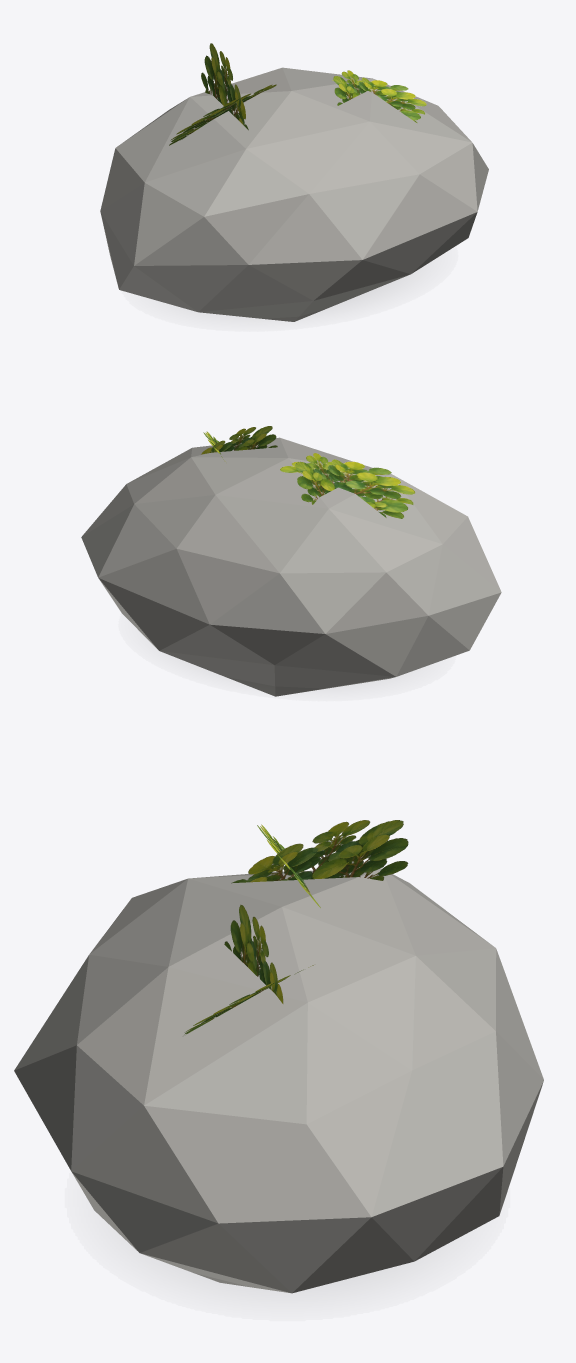
The model's file is moss-rock.glb.
3 views of the same model, one above another, from view 1: azimuth 30°, elevation 25°; view 2: azimuth 150°, elevation 25°; view 3: azimuth 270°, elevation 25° (orthographic). The views are drawn at different scales.
Visible parts, largest first — view 1: rock, leafcard.002, leafcard.003, leafcard, leafcard.001; view 2: rock, leafcard.001, leafcard.002, leafcard; view 3: rock, leafcard.002, leafcard.
Part boxes in pixels (box(x1,y1,x2,y2)): rock: box(100, 67, 488, 321); leafcard.002: box(201, 43, 248, 130); leafcard.003: box(332, 80, 426, 123); leafcard: box(333, 70, 369, 105); leafcard.001: box(169, 84, 276, 145); rock: box(81, 437, 501, 696); leafcard.001: box(280, 461, 415, 518); leafcard.002: box(295, 453, 351, 504); leafcard: box(201, 426, 277, 454); rock: box(14, 868, 543, 1293); leafcard.002: box(231, 820, 408, 883); leafcard: box(224, 904, 283, 1003).
Bounding box in the file's own units: 1.7 × 1.16 × 1.3.
Materials: 3 (2 with a texture image).
